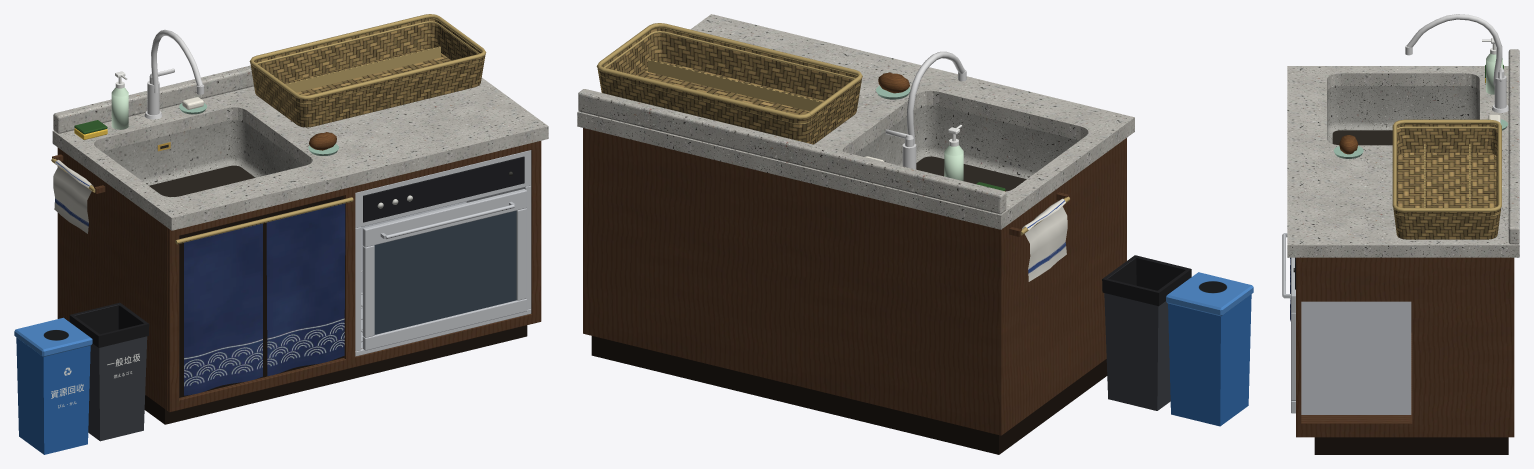
The model's file is sink.glb.
3 renders of one model, left to right at view 1: azimuth 30°, elevation 25°; view 2: azimuth 150°, elevation 25°; view 3: azimuth 270°, elevation 25°, orthographic. The views are drawn at different scales.
Parts seen in each view (by area): view 1: SinkTop, SinkBasket, SinkDryerGlass, SinkNoren0, SinkNoren1, SinkBody, SinkBasin, SinkBinRecBody, SinkBinBody, SinkKick, SinkDryerPanel, SinkRailFoot (+29 smaller); view 2: SinkBody, SinkBodyR, SinkTop, SinkBodyBack, SinkBasket, SinkUpstand, SinkKick, SinkBinRecBody, SinkBasin, SinkBinBody, SinkBodyLeft, SinkBasketRim (+9 smaller); view 3: SinkTop, SinkBodyR, SinkDryerCavity, SinkBasket, SinkBodyRight, SinkBasin, SinkKick, SinkBodyRFoot, SinkUpstand, SinkBasketRim, SinkBodyBack, SinkBodyFront (+9 smaller).
Part boxes in pixels (<box>): SinkTop: <box>52,77,548,230</box>; SinkBasket: <box>250,18,485,127</box>; SinkDryerGlass: <box>374,210,516,334</box>; SinkNoren0: <box>184,223,262,395</box>; SinkNoren1: <box>266,203,345,376</box>; SinkBody: <box>57,213,167,410</box>; SinkBasin: <box>102,120,304,185</box>; SinkBinRecBody: <box>16,337,90,454</box>; SinkBinBody: <box>74,304,147,441</box>; SinkKick: <box>144,325,527,424</box>; SinkDryerPanel: <box>363,156,524,222</box>; SinkRailFoot: <box>169,312,541,412</box>; SinkBody: <box>797,189,1124,435</box>; SinkBodyR: <box>583,177,797,385</box>; SinkTop: <box>577,14,1134,229</box>; SinkBodyBack: <box>583,128,1020,278</box>; SinkBasket: <box>597,28,861,144</box>; SinkUpstand: <box>578,89,1006,214</box>; SinkKick: <box>591,336,1107,454</box>; SinkBinRecBody: <box>1168,294,1251,426</box>; SinkBasin: <box>854,105,1079,178</box>; SinkBinBody: <box>1104,257,1186,410</box>; SinkBodyLeft: <box>1020,150,1110,264</box>; SinkBasketRim: <box>596,23,862,119</box>; SinkTop: <box>1287,66,1519,257</box>; SinkBodyR: <box>1412,301,1514,437</box>; SinkDryerCavity: <box>1301,301,1411,414</box>; SinkBasket: <box>1393,124,1500,239</box>; SinkBodyRight: <box>1325,257,1481,301</box>; SinkBasin: <box>1327,86,1479,143</box>; SinkKick: <box>1314,437,1508,454</box>; SinkBodyRFoot: <box>1301,332,1412,437</box>; SinkUpstand: <box>1508,49,1519,244</box>; SinkBasketRim: <box>1392,119,1501,211</box>; SinkBodyBack: <box>1481,257,1514,301</box>; SinkBodyFront: <box>1301,257,1325,301</box>.
Size of the model in its own units: 2.03 by 1.24 by 0.868.
31 materials, 8 textured.
